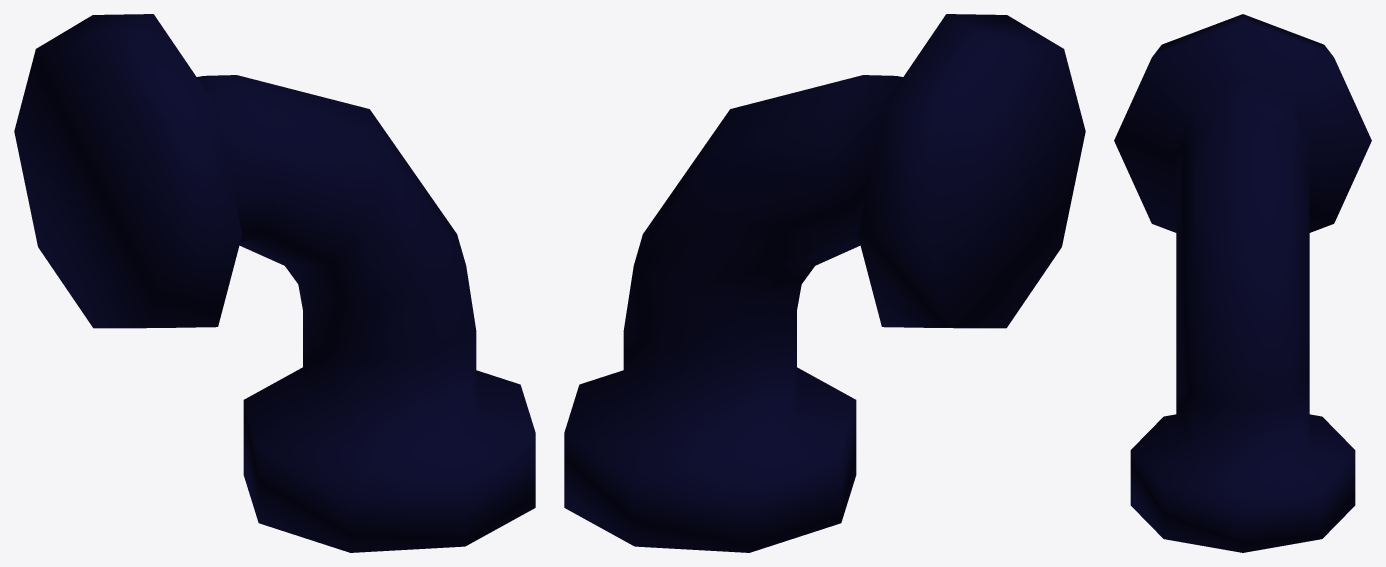
Rendered from Pipe_Elbow_2.fbx.
3 renders of one model, left to right at view 1: azimuth 30°, elevation 25°; view 2: azimuth 150°, elevation 25°; view 3: azimuth 270°, elevation 25°, orthographic. The views are drawn at different scales.
Visible parts, largest first — view 1: Cylinder.015; view 2: Cylinder.015; view 3: Cylinder.015.
Boxes of the visible parts, left/top/right/bottom form: Cylinder.015: left=14, top=14, right=535, bottom=552; Cylinder.015: left=564, top=14, right=1085, bottom=552; Cylinder.015: left=1114, top=14, right=1371, bottom=552.
Size of the model in its own units: 108 by 128 by 75.45.
